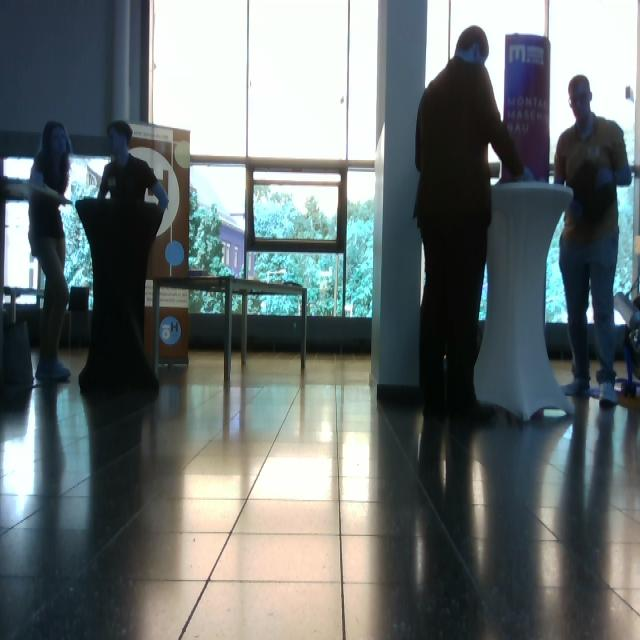door: (2, 122, 191, 368)
light bulb: (165, 241, 185, 266), (489, 161, 502, 184), (108, 177, 117, 198)
person: (413, 25, 526, 422), (554, 74, 633, 408), (76, 120, 170, 394), (28, 121, 74, 382)
pillar: (370, 1, 428, 400)
tiled floor: (2, 345, 639, 638)
window: (147, 1, 380, 322)
